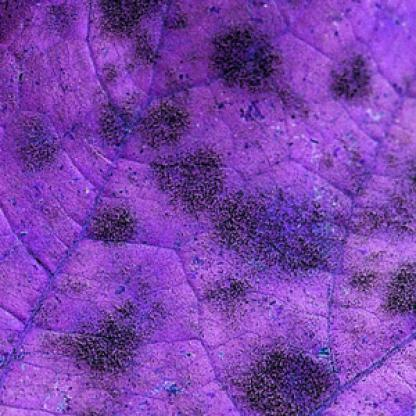Squash Powdery mildew leaf: (6, 6, 414, 398)
